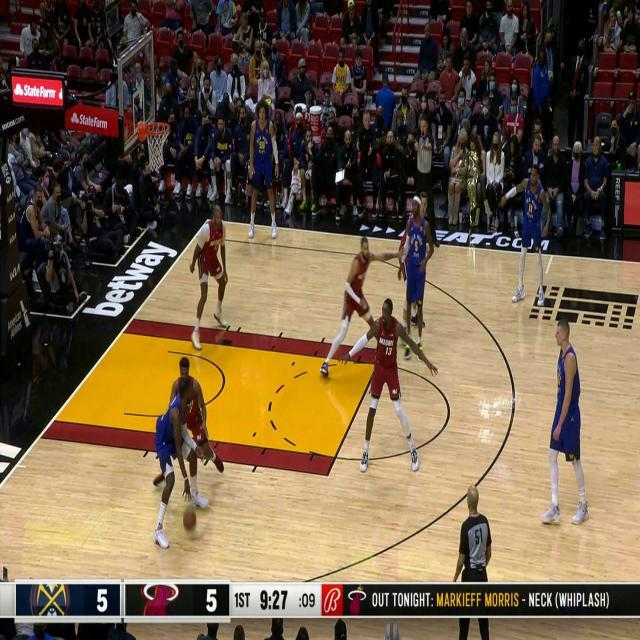rim: (183, 507, 197, 531)
